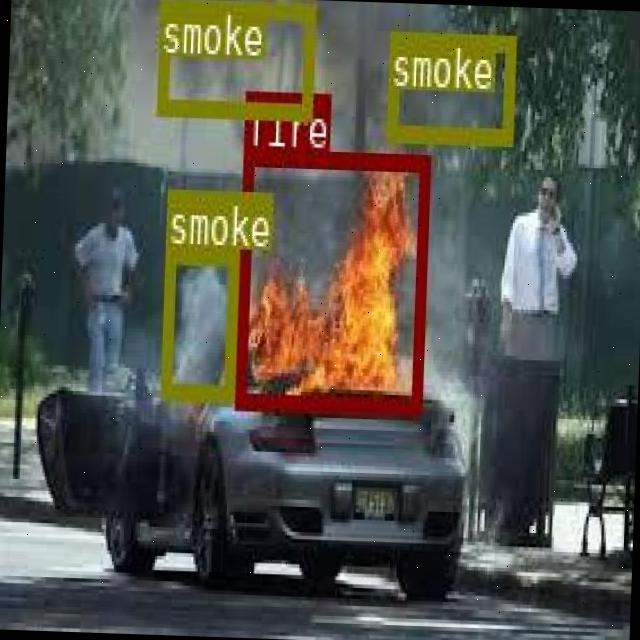fire: (235, 148, 428, 410)
smoke: (154, 0, 312, 115), (385, 29, 514, 142), (160, 244, 238, 399)
